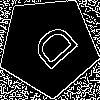D: (23, 21, 80, 79)
